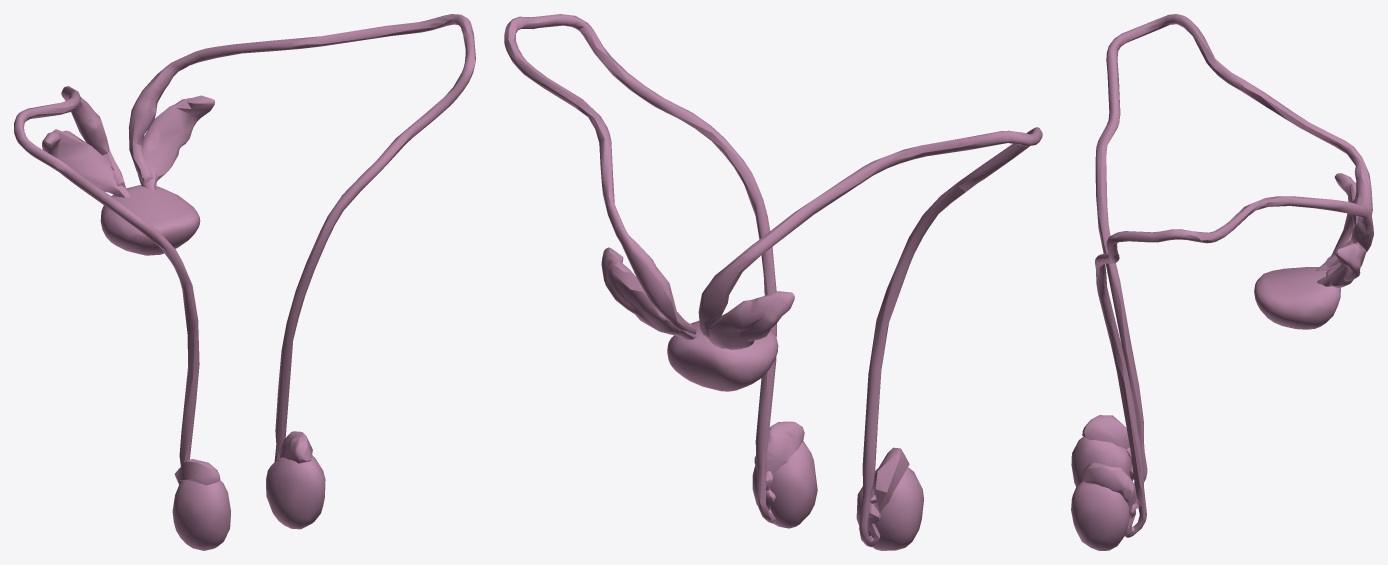
File: reproductive.glb
3 views of the same model, side by side, from view 1: azimuth 30°, elevation 25°; view 2: azimuth 150°, elevation 25°; view 3: azimuth 270°, elevation 25° (orthographic). The views are drawn at different scales.
Parts seen in each view (by area): view 1: deferent-ducts, testes, seminal-vesicles, prostate, epididymides; view 2: deferent-ducts, testes, seminal-vesicles, prostate, epididymides; view 3: deferent-ducts, testes, prostate, epididymides, seminal-vesicles.
Boxes of the visible parts, x1,y1,x2,y2 form: deferent-ducts: (14,14,475,465); testes: (172,455,325,550); seminal-vesicles: (42,95,214,197); prostate: (100,185,200,255); epididymides: (174,431,312,485); deferent-ducts: (504,14,1042,547); testes: (752,441,923,550); seminal-vesicles: (601,247,794,349); prostate: (667,321,778,391); epididymides: (754,421,909,512); deferent-ducts: (1095,14,1373,537); testes: (1071,436,1131,550); prostate: (1254,267,1340,329); epididymides: (1081,415,1136,517); seminal-vesicles: (1316,173,1366,287).
Bounding box in the file's own units: 0.3734 × 0.3424 × 0.2219.
